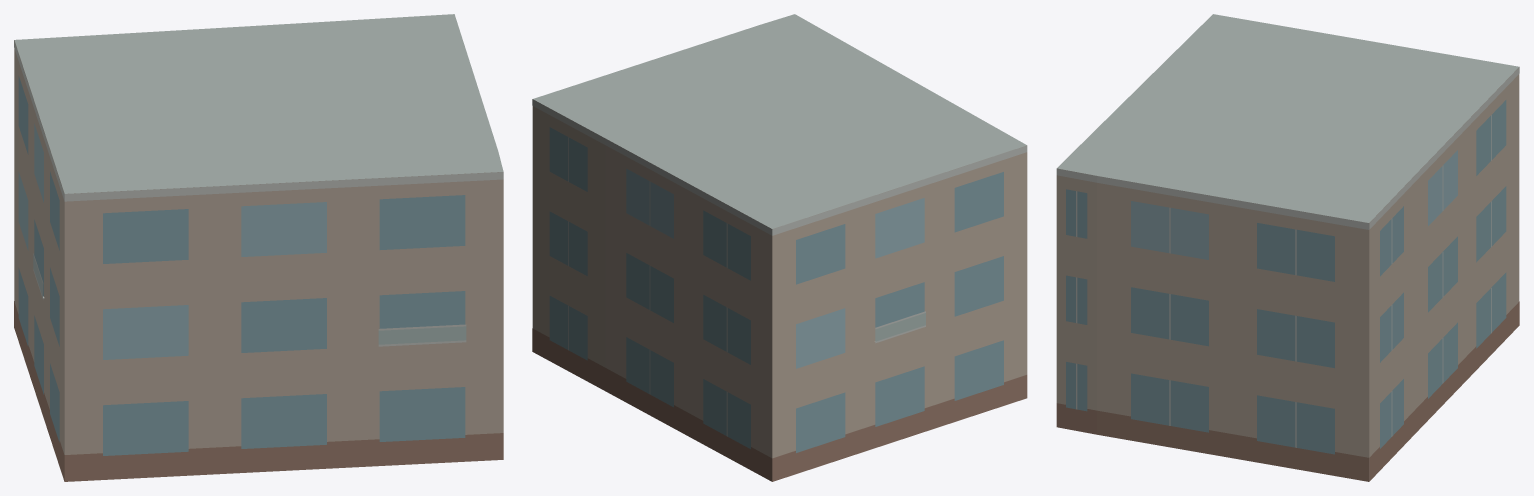
Rendered from survey-upis-32581035.glb.
The picture shows the model from 3 angles, left to right: view 1: azimuth 30°, elevation 25°; view 2: azimuth 150°, elevation 25°; view 3: azimuth 270°, elevation 25°; orthographic projection. The views are drawn at different scales.
Visible parts, largest first — view 1: survey-upis-32581035.tmp; view 2: survey-upis-32581035.tmp; view 3: survey-upis-32581035.tmp.
Boxes of the visible parts, bbox=[...] form: survey-upis-32581035.tmp: bbox=[14, 14, 503, 481]; survey-upis-32581035.tmp: bbox=[532, 14, 1027, 481]; survey-upis-32581035.tmp: bbox=[1056, 14, 1519, 481].
Size of the model in its own units: 15.87 by 9.15 by 14.84.
